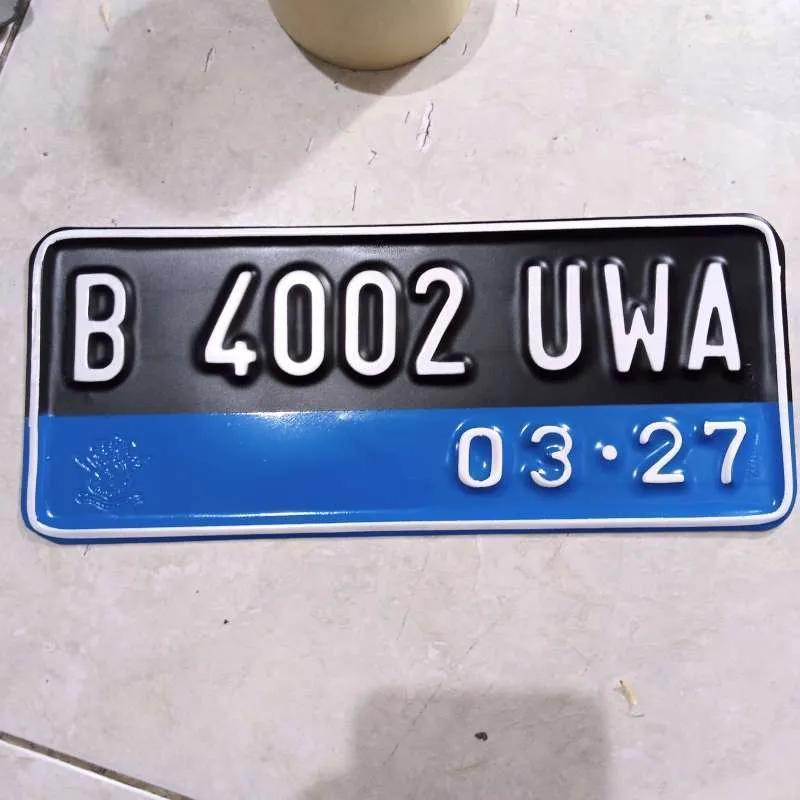0: (333, 250, 408, 389), (265, 251, 335, 398)
2: (408, 248, 476, 388)
4: (175, 258, 267, 398)
A: (676, 250, 753, 384)
B: (57, 255, 154, 400)
U: (513, 241, 592, 376)
W: (590, 253, 676, 376)
